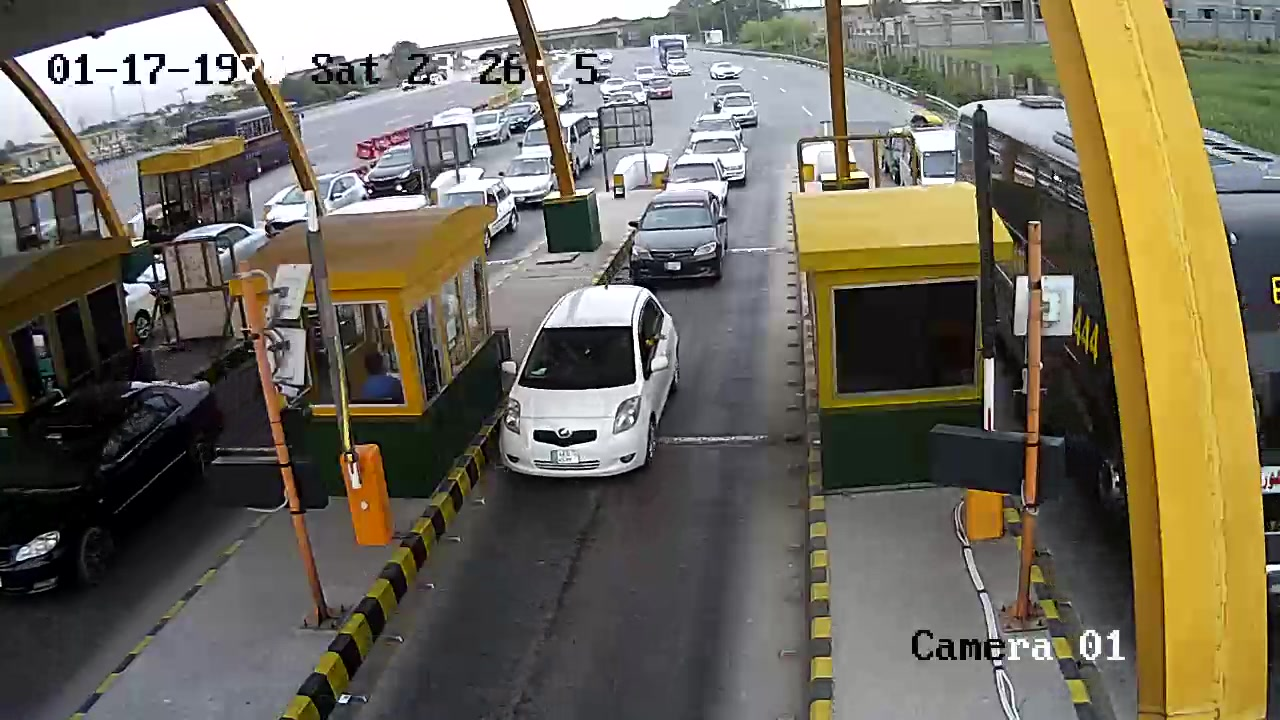F1: (484, 287, 707, 490)
